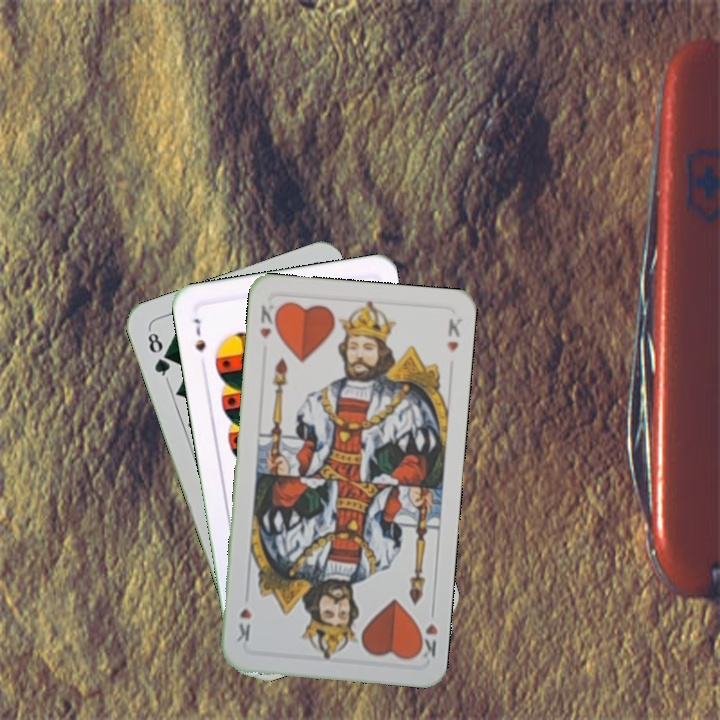G8: (143, 325, 173, 383)
HK: (412, 603, 441, 662), (255, 299, 282, 341)
S7: (189, 314, 208, 354)
